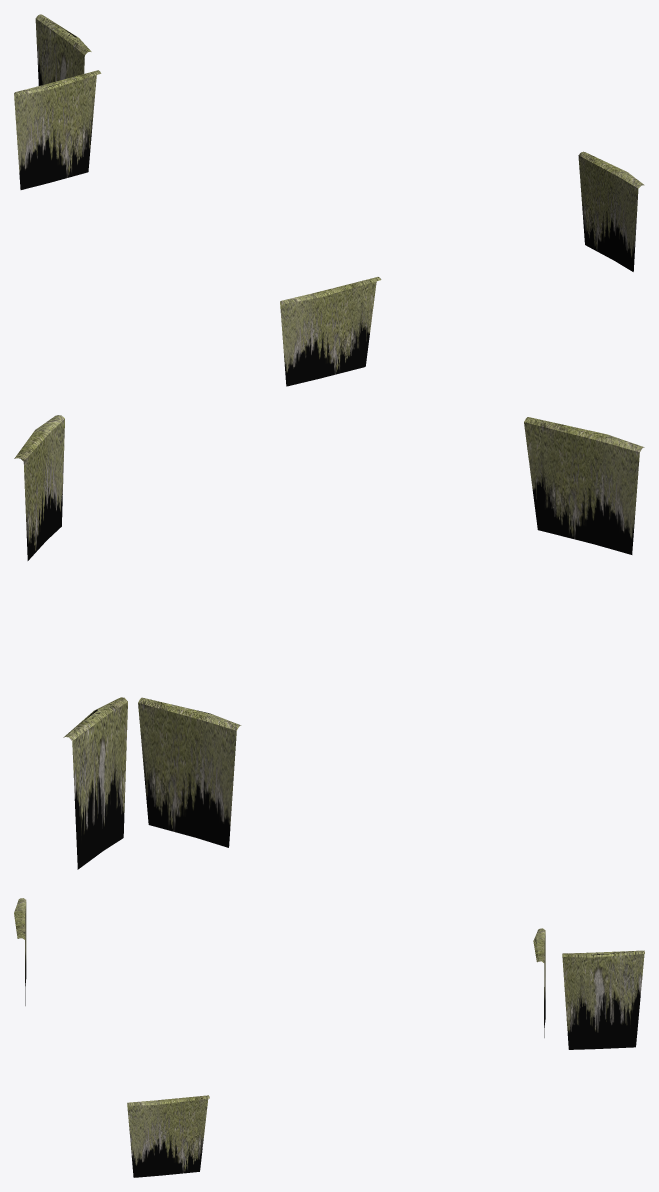
File: SM_Chateaux_06_11.fbx
3 views of the same model, one above another, from view 1: azimuth 30°, elevation 25°; view 2: azimuth 150°, elevation 25°; view 3: azimuth 270°, elevation 25° (orthographic). The views are drawn at different scales.
Visible parts, largest first — view 1: SM_Chateaux_06_11; view 2: SM_Chateaux_06_11; view 3: SM_Chateaux_06_11.
Boxes of the visible parts, x1,y1,x2,y2 form: SM_Chateaux_06_11: (14, 14, 644, 386); SM_Chateaux_06_11: (14, 415, 644, 869); SM_Chateaux_06_11: (14, 898, 644, 1177).
Size of the model in its own units: 1765 by 480 by 2621.
